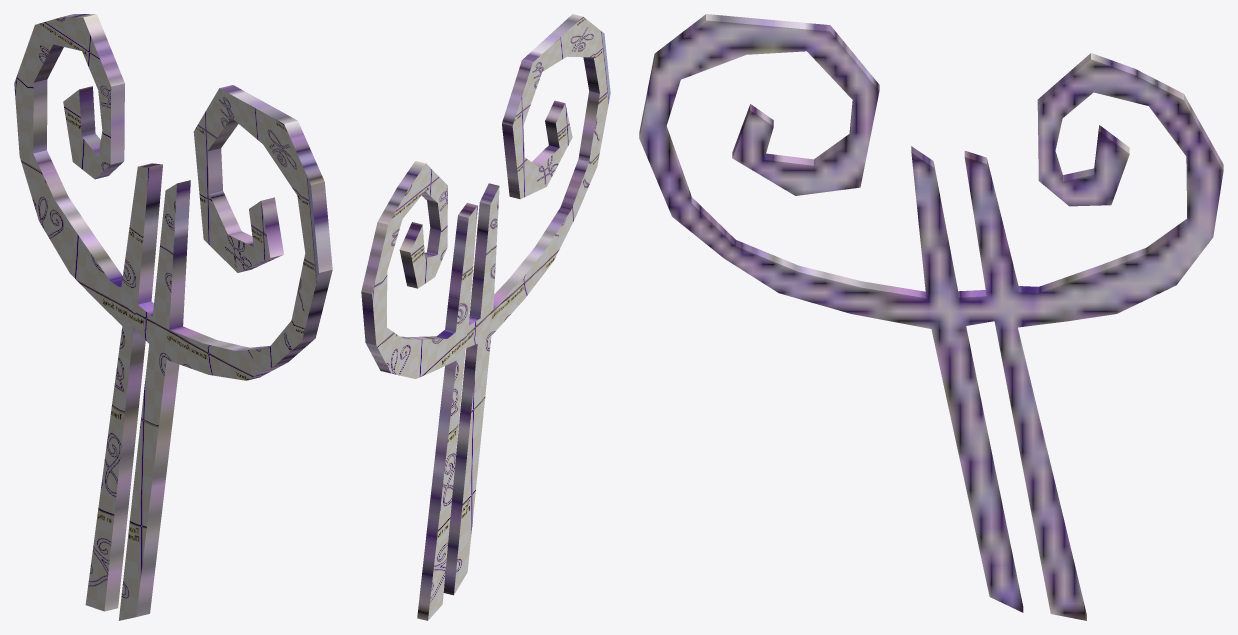
File: scroll1.glb
The picture shows the model from 3 angles, left to right: view 1: azimuth 30°, elevation 25°; view 2: azimuth 150°, elevation 25°; view 3: azimuth 270°, elevation 25°; orthographic projection. The views are drawn at different scales.
Parts seen in each view (by area): view 1: Picsart_22-01-21_15-37-57-171.001; view 2: Picsart_22-01-21_15-37-57-171.001; view 3: Picsart_22-01-21_15-37-57-171.001.
Part boxes in pixels (x1,y1,x2,y2): Picsart_22-01-21_15-37-57-171.001: (14,14,332,620); Picsart_22-01-21_15-37-57-171.001: (361,14,610,620); Picsart_22-01-21_15-37-57-171.001: (639,14,1223,620).
Size of the model in its own units: 0.0442 by 1.92 by 1.69.
Materials: 1 (1 with a texture image).
